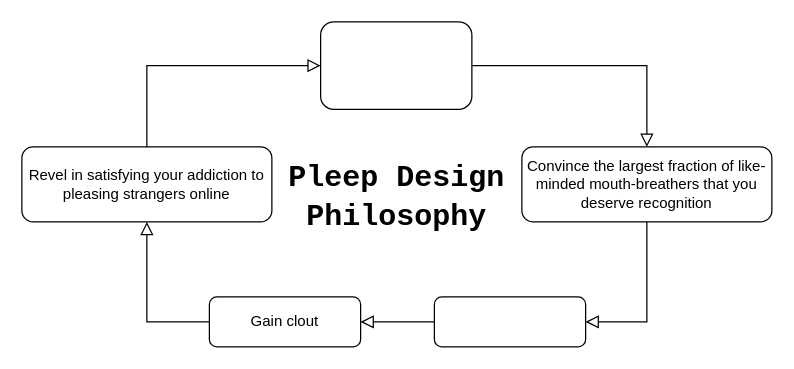
This 794x369 diagram has some shape labels left out. The centre of each missing label's shape, as x and y in pixels:
Get upvotes: pixel 509 321
Spout tasteless, link-bait, opinionated bullshit, or edgy memes: pixel 395 65
